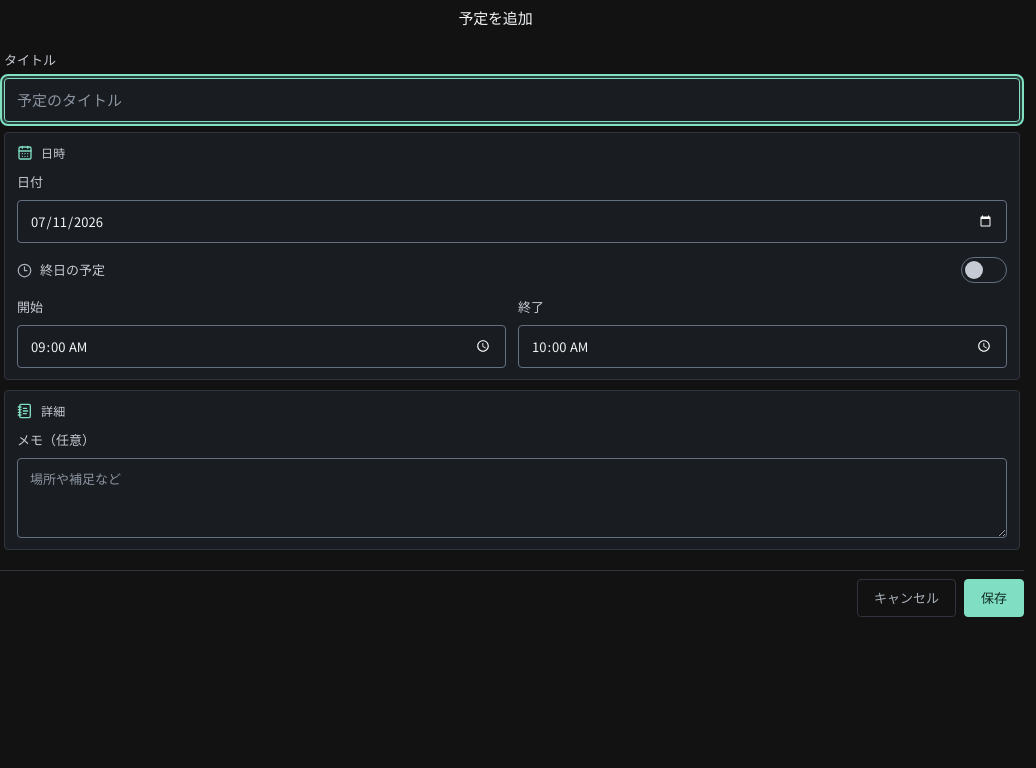
Test case: CalendarEventEditor › keeps input visible when validation fails
The width and height of the screenshot is (1036, 768).
Step 1. Click the button "保存" → point(994, 598), box [964, 579, 1024, 616]
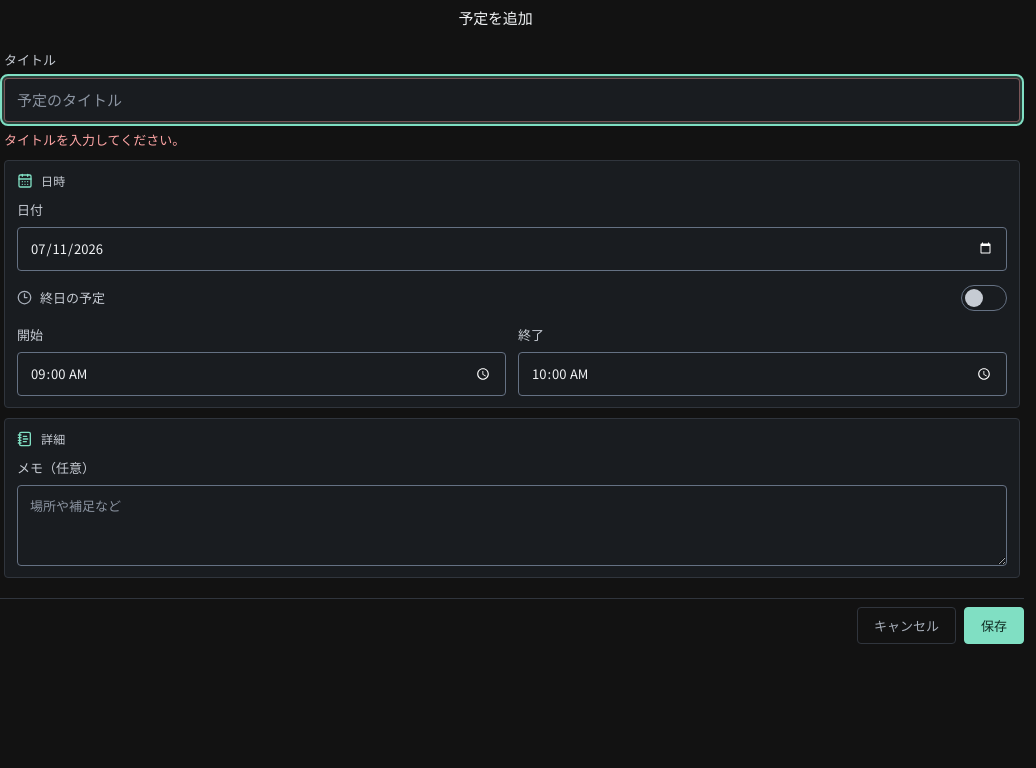
Check: the field labelled "タイトル" is empty, box [4, 78, 1020, 122]
Check: the message shows "タイトルを入力してください", box [4, 130, 185, 149]
